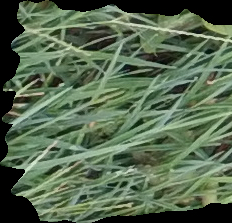grass: (1, 1, 230, 220)
